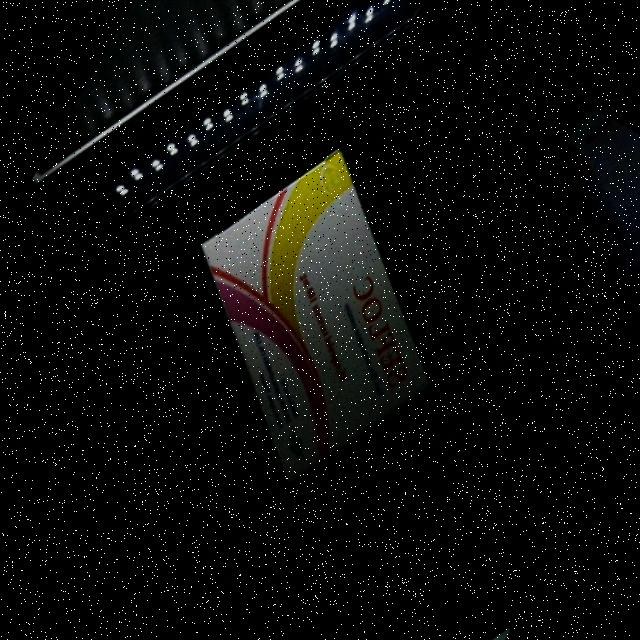medicine_name_detection: (122, 123, 504, 519)
